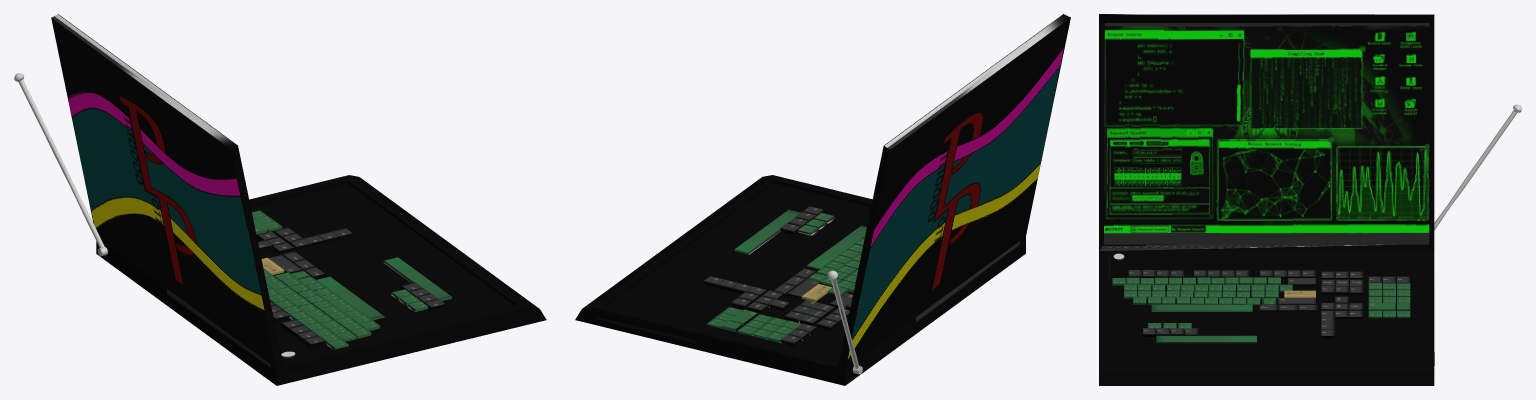
Rendered from laptop.fbx.
The picture shows the model from 3 angles, left to right: view 1: azimuth 30°, elevation 25°; view 2: azimuth 150°, elevation 25°; view 3: azimuth 270°, elevation 25°; orthographic projection. The views are drawn at different scales.
Parts seen in each view (by area): view 1: Laptop; view 2: Laptop; view 3: Laptop.
Boxes of the visible parts, x1,y1,x2,y2 form: Laptop: [14, 14, 546, 385]; Laptop: [575, 14, 1070, 385]; Laptop: [1099, 14, 1521, 385].
Size of the model in its own units: 2302 by 1741 by 2882.
